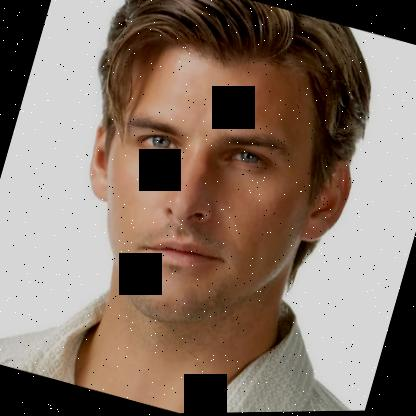Male: (51, 15, 380, 365)
